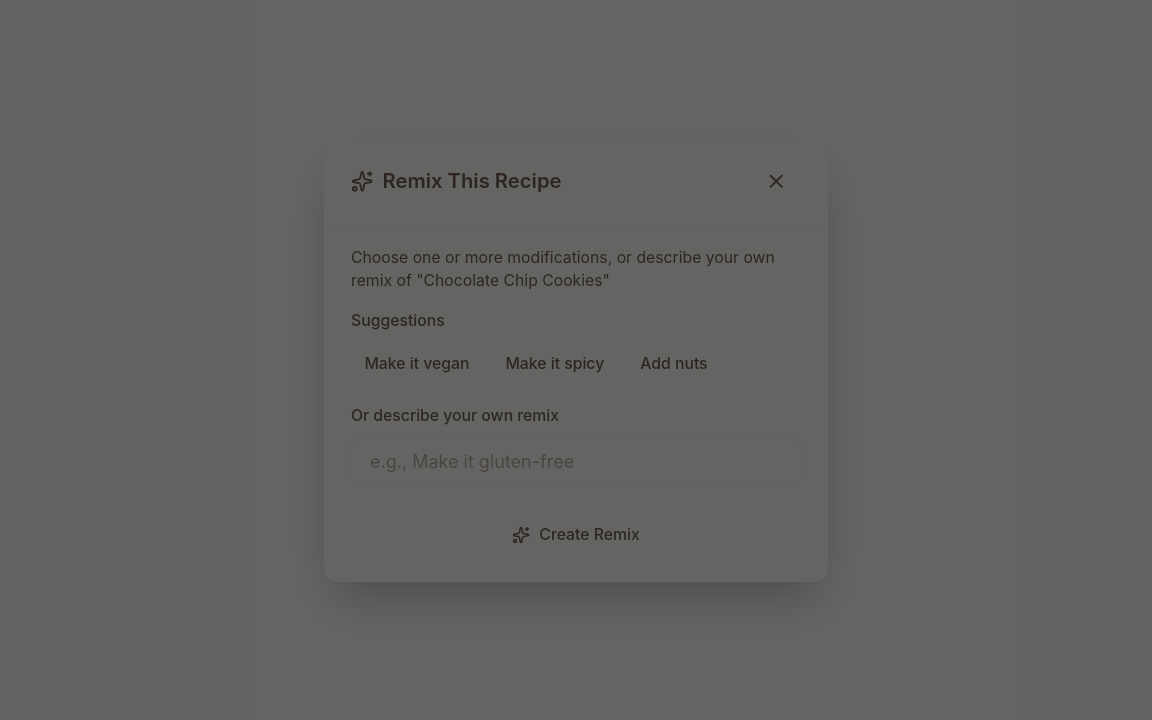
Scenario: RemixModal › allows selecting multiple suggestions
The width and height of the screenshot is (1152, 720).
Note: Select multiple suggestions
Click the button "Make it vegan". click: (417, 364)
box: [351,346,483,382]
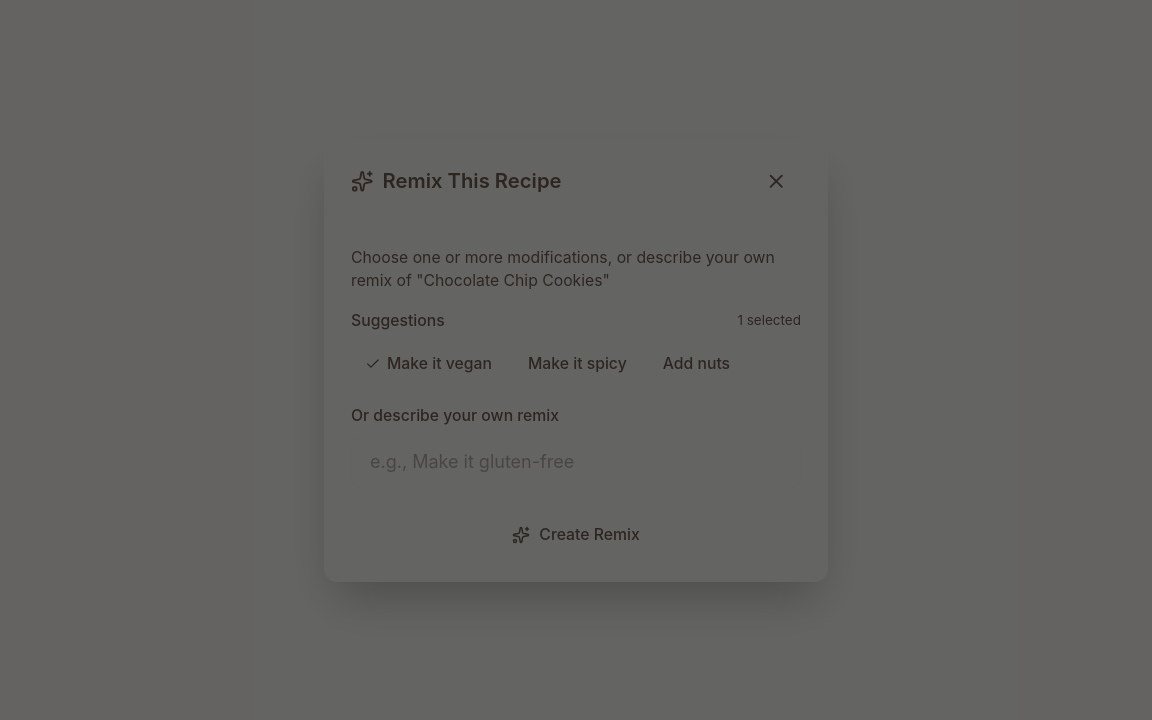
Click the button "Make it spicy". click: (577, 364)
box: [514,346,640,382]
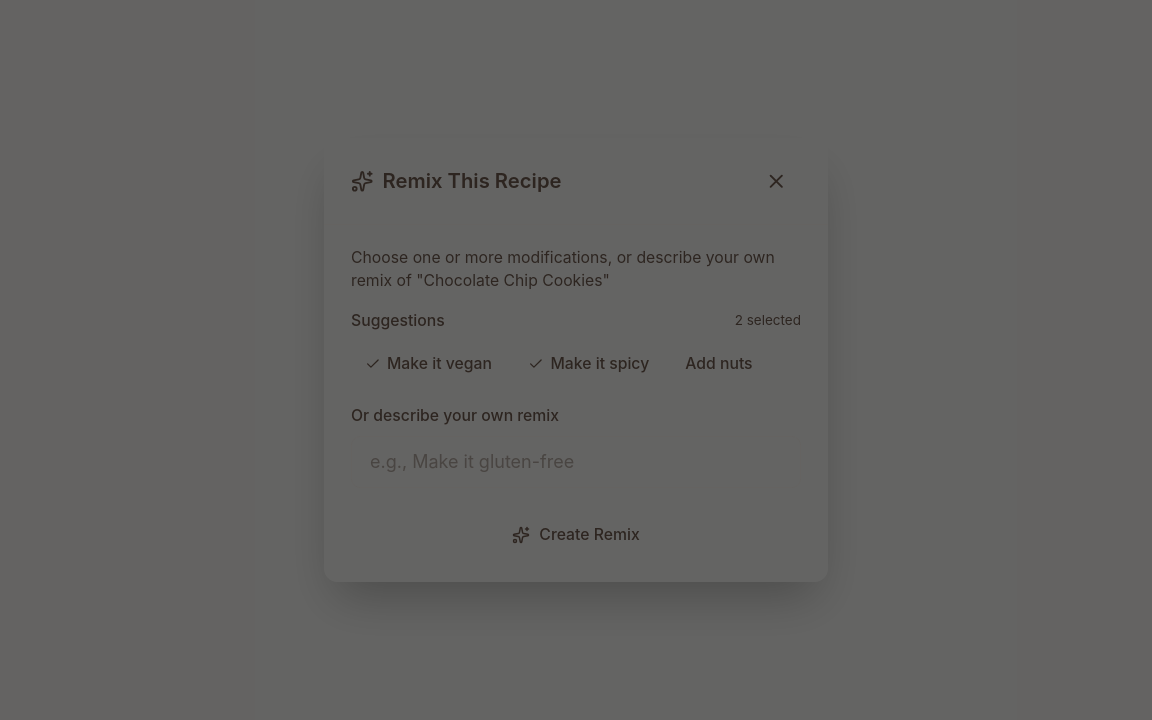
Result: the text "2 selected" is shown at [735,312,801,330]
